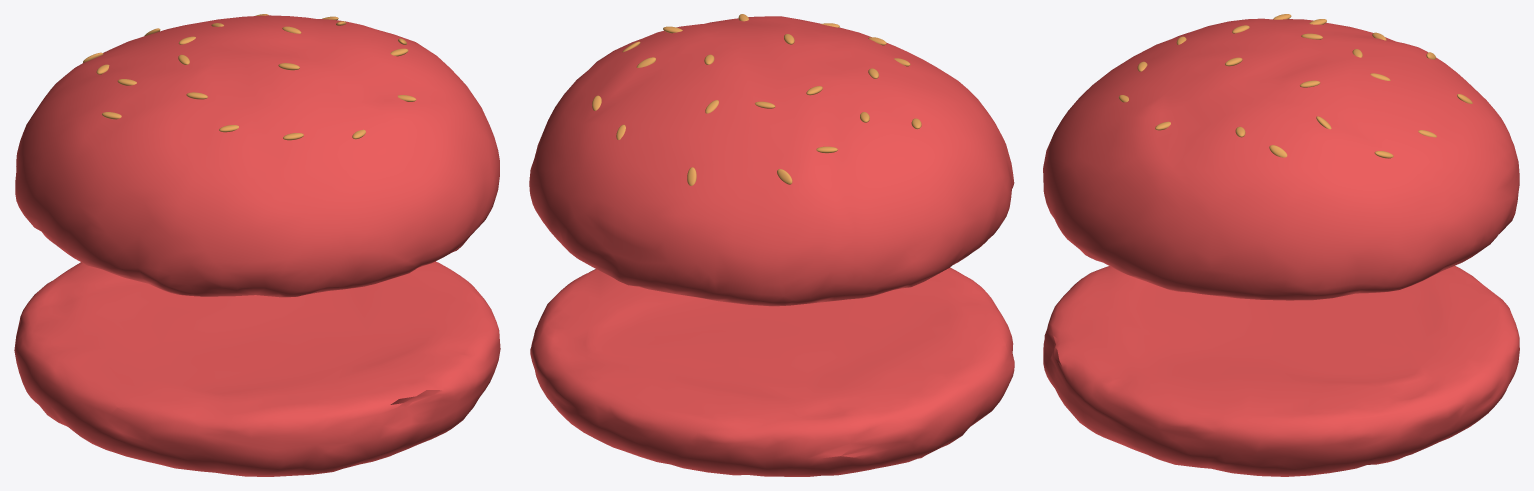
The model's file is Red_Bread.fbx.
3 renders of one model, left to right at view 1: azimuth 30°, elevation 25°; view 2: azimuth 150°, elevation 25°; view 3: azimuth 270°, elevation 25°, orthographic.
Parts seen in each view (by area): view 1: ust_ekmek, Alt_ekmek; view 2: ust_ekmek, Alt_ekmek; view 3: ust_ekmek, Alt_ekmek.
Part boxes in pixels (bbox=[...]): ust_ekmek: bbox=[15, 14, 499, 297]; Alt_ekmek: bbox=[14, 261, 500, 476]; ust_ekmek: bbox=[529, 14, 1014, 306]; Alt_ekmek: bbox=[530, 267, 1014, 476]; ust_ekmek: bbox=[1043, 14, 1519, 300]; Alt_ekmek: bbox=[1043, 266, 1519, 476].
Size of the model in its own units: 20.37 by 15.92 by 20.37.
